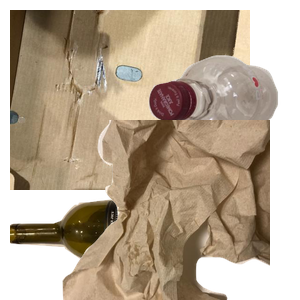cardboard: (10, 10, 250, 190)
glass: (10, 189, 250, 300)
plastic: (146, 53, 300, 187)
trash: (60, 120, 300, 300)
